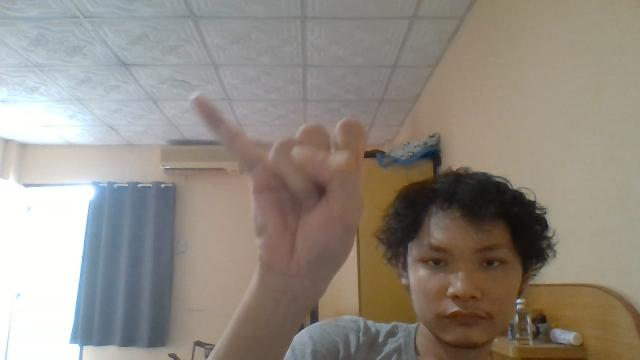Right: (190, 86, 366, 270)
